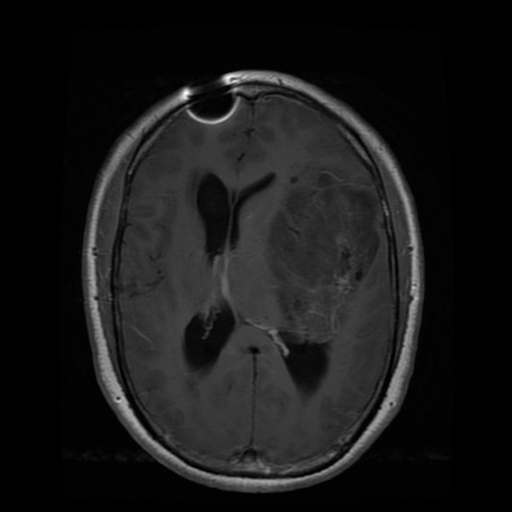glioma: (264, 167, 380, 339)
